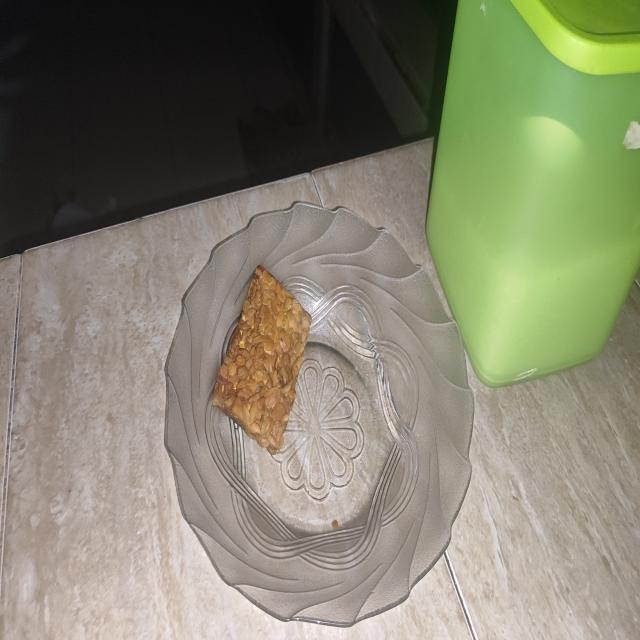tempe_goreng: (212, 265, 312, 455)
